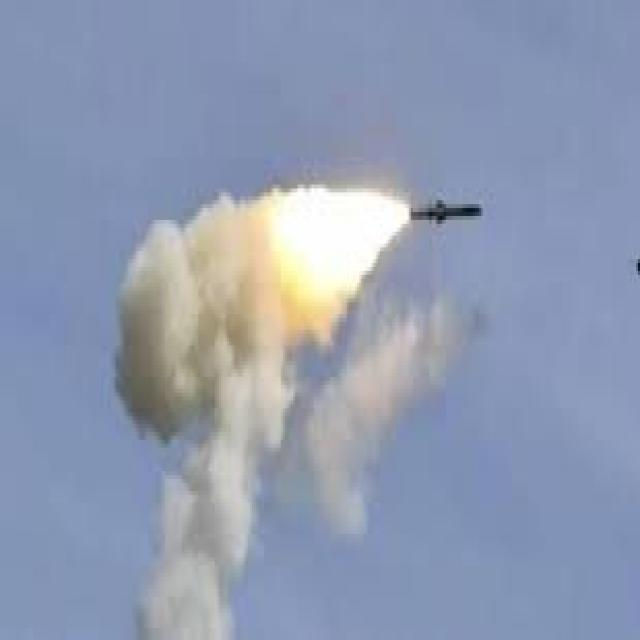missile: (408, 198, 490, 229)
